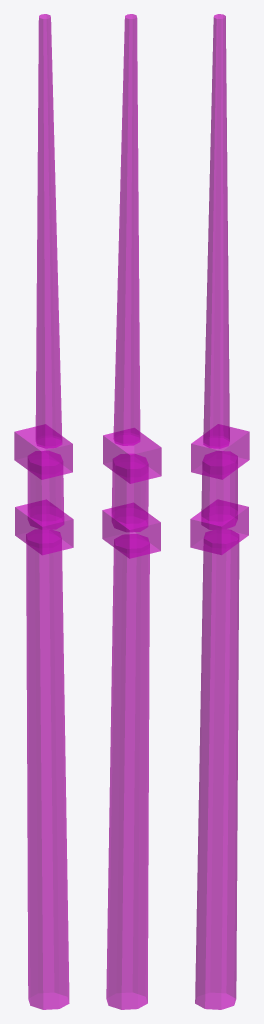
Rendered from SM_Veh_Ship_L_Mast_Back_01_Collision.fbx.
3 views of the same model, side by side, from view 1: azimuth 30°, elevation 25°; view 2: azimuth 210°, elevation 25°; view 3: azimuth 330°, elevation 25° (orthographic).
Visible parts, largest first — view 1: SM_Veh_Ship_L_Mast_Back_01_Collision; view 2: SM_Veh_Ship_L_Mast_Back_01_Collision; view 3: SM_Veh_Ship_L_Mast_Back_01_Collision.
Boxes of the visible parts, <box> form: SM_Veh_Ship_L_Mast_Back_01_Collision: <box>14,14,73,1009</box>; SM_Veh_Ship_L_Mast_Back_01_Collision: <box>102,14,161,1009</box>; SM_Veh_Ship_L_Mast_Back_01_Collision: <box>190,14,249,1009</box>.
Size of the model in its own units: 99.64 by 2526 by 136.
